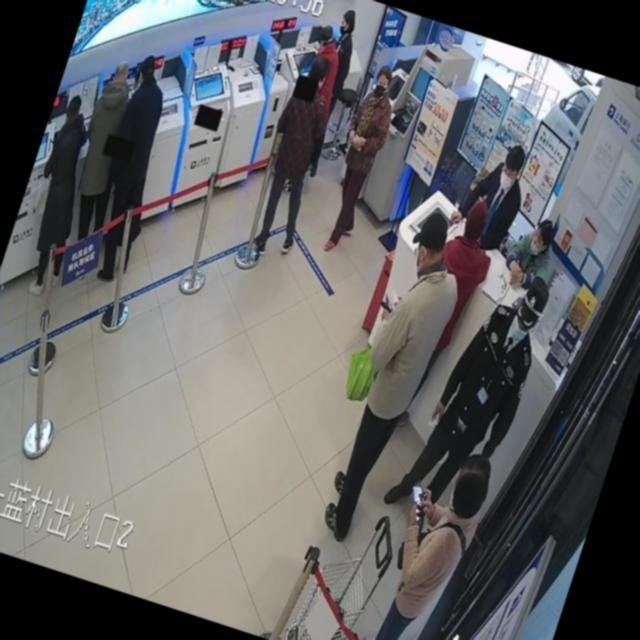person: (304, 206, 478, 554), (381, 254, 558, 538), (376, 194, 509, 468), (58, 48, 193, 282), (70, 51, 194, 288), (360, 441, 498, 640), (238, 49, 352, 264), (4, 90, 115, 301), (52, 55, 152, 248), (310, 63, 407, 260), (278, 24, 359, 188), (452, 136, 538, 256), (309, 6, 368, 125), (498, 211, 564, 299), (298, 25, 352, 111), (300, 25, 352, 109)
